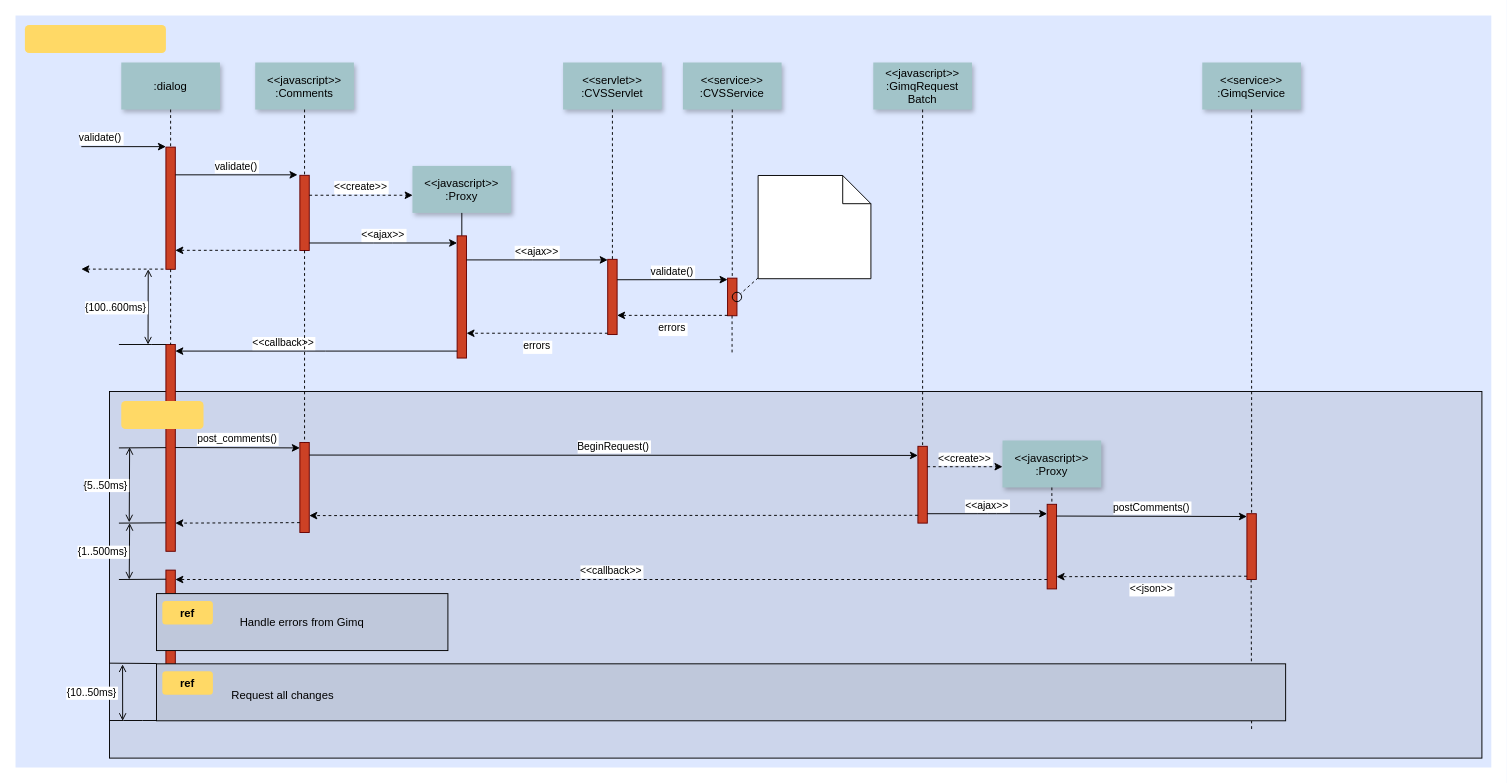
This 1507x783 diagram has some shape labels left out. Each missing label, with the centre of its shape:
"- user validation - password check" belongs at point 814,227.
"opt" belongs at point 162,414.
"rt submit_changes" belongs at point 94,38.
